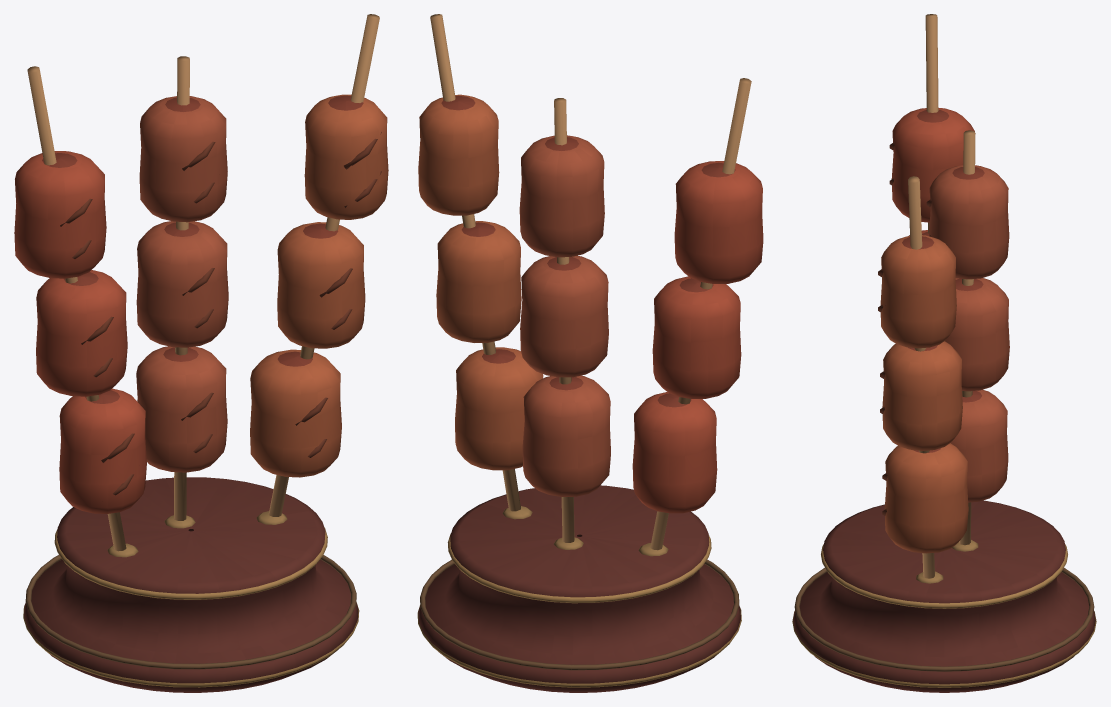
Rendered from sausage-skewer.glb.
3 renders of one model, left to right at view 1: azimuth 30°, elevation 25°; view 2: azimuth 150°, elevation 25°; view 3: azimuth 270°, elevation 25°, orthographic. The views are drawn at different scales.
Visible parts, largest first — view 1: Shared_oxblood_pedestal, Right_plump_sausage_1, Middle_plump_sausage_2, Left_plump_sausage_3, Left_plump_sausage_2, Middle_plump_sausage_1, Middle_plump_sausage_3, Right_plump_sausage_2, Left_plump_sausage_1, Right_plump_sausage_3, Shared_recessed_dark_band, Right_warm_wood_skewer (+4 smaller); view 2: Shared_oxblood_pedestal, Left_plump_sausage_3, Middle_plump_sausage_2, Middle_plump_sausage_1, Left_plump_sausage_2, Middle_plump_sausage_3, Right_plump_sausage_2, Left_plump_sausage_1, Right_plump_sausage_3, Right_plump_sausage_1, Shared_recessed_dark_band, Right_warm_wood_skewer (+4 smaller); view 3: Shared_oxblood_pedestal, Right_plump_sausage_1, Right_plump_sausage_2, Right_plump_sausage_3, Middle_plump_sausage_3, Middle_plump_sausage_2, Left_plump_sausage_3, Middle_plump_sausage_1, Shared_recessed_dark_band, Shared_upper_antique_brass_molding, Shared_lower_antique_brass_molding, Right_warm_wood_skewer (+2 smaller).
Part boxes in pixels (<box>): Shared_oxblood_pedestal: <box>24,477,358,692</box>; Right_plump_sausage_1: <box>250,349,341,477</box>; Middle_plump_sausage_2: <box>136,221,228,347</box>; Left_plump_sausage_3: <box>14,151,106,278</box>; Left_plump_sausage_2: <box>36,270,127,396</box>; Middle_plump_sausage_1: <box>136,346,227,472</box>; Middle_plump_sausage_3: <box>139,96,227,222</box>; Right_plump_sausage_2: <box>277,222,365,348</box>; Left_plump_sausage_1: <box>59,388,146,513</box>; Right_plump_sausage_3: <box>304,94,388,219</box>; Shared_recessed_dark_band: <box>25,555,356,669</box>; Right_warm_wood_skewer: <box>269,14,379,516</box>; Shared_oxblood_pedestal: <box>418,485,740,692</box>; Left_plump_sausage_3: <box>674,161,763,283</box>; Middle_plump_sausage_2: <box>520,255,608,377</box>; Middle_plump_sausage_1: <box>522,375,610,496</box>; Left_plump_sausage_2: <box>652,276,741,398</box>; Middle_plump_sausage_3: <box>519,135,604,257</box>; Right_plump_sausage_2: <box>436,221,521,342</box>; Left_plump_sausage_1: <box>632,392,717,513</box>; Right_plump_sausage_3: <box>418,94,499,215</box>; Right_plump_sausage_1: <box>455,347,543,470</box>; Shared_recessed_dark_band: <box>420,559,739,670</box>; Right_warm_wood_skewer: <box>430,14,520,511</box>; Shared_oxblood_pedestal: <box>793,500,1095,692</box>; Right_plump_sausage_1: <box>884,443,968,553</box>; Right_plump_sausage_2: <box>882,341,962,450</box>; Right_plump_sausage_3: <box>880,235,956,348</box>; Middle_plump_sausage_3: <box>929,165,1009,279</box>; Middle_plump_sausage_2: <box>945,278,1009,391</box>; Left_plump_sausage_3: <box>891,107,974,222</box>; Middle_plump_sausage_1: <box>950,389,1008,502</box>; Shared_recessed_dark_band: <box>794,568,1094,671</box>; Shared_upper_antique_brass_molding: <box>821,544,1067,608</box>; Shared_lower_antique_brass_molding: <box>792,611,1096,687</box>; Right_warm_wood_skewer: <box>908,176,934,578</box>.
Bounding box in the file's own units: 1 × 1.65 × 0.824.
